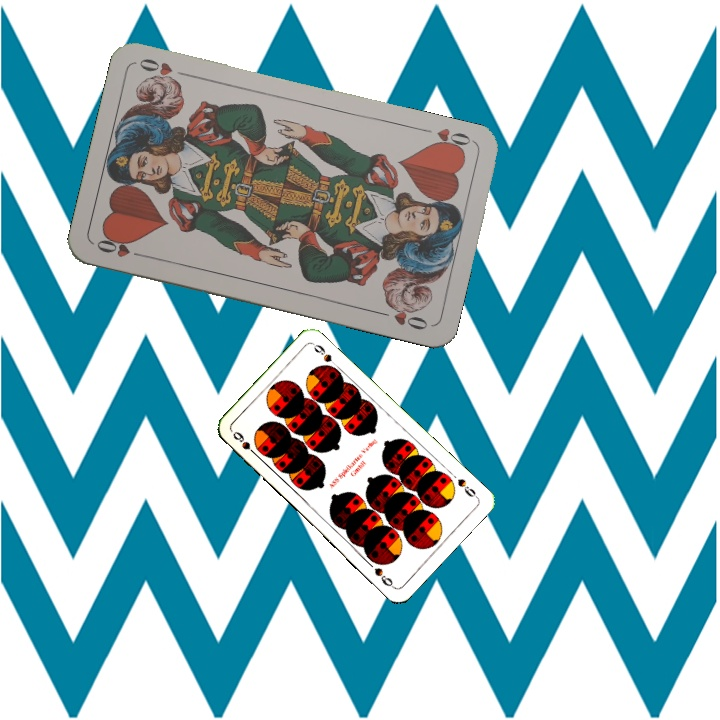HO: (425, 124, 476, 156), (92, 233, 150, 261)
S9: (229, 427, 261, 460), (453, 475, 481, 501)
